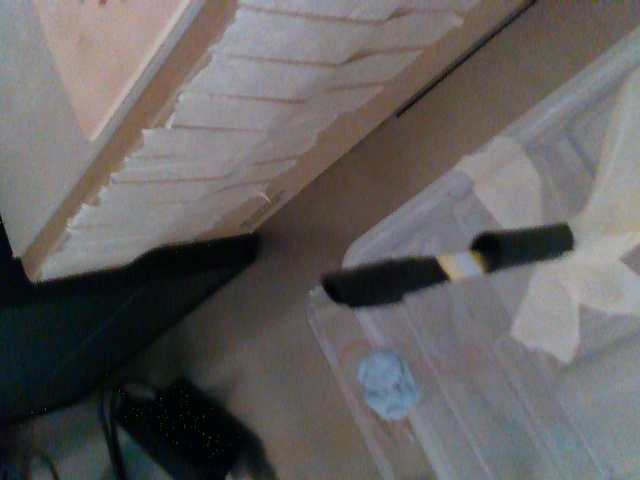test_strip: (320, 252, 485, 306)
